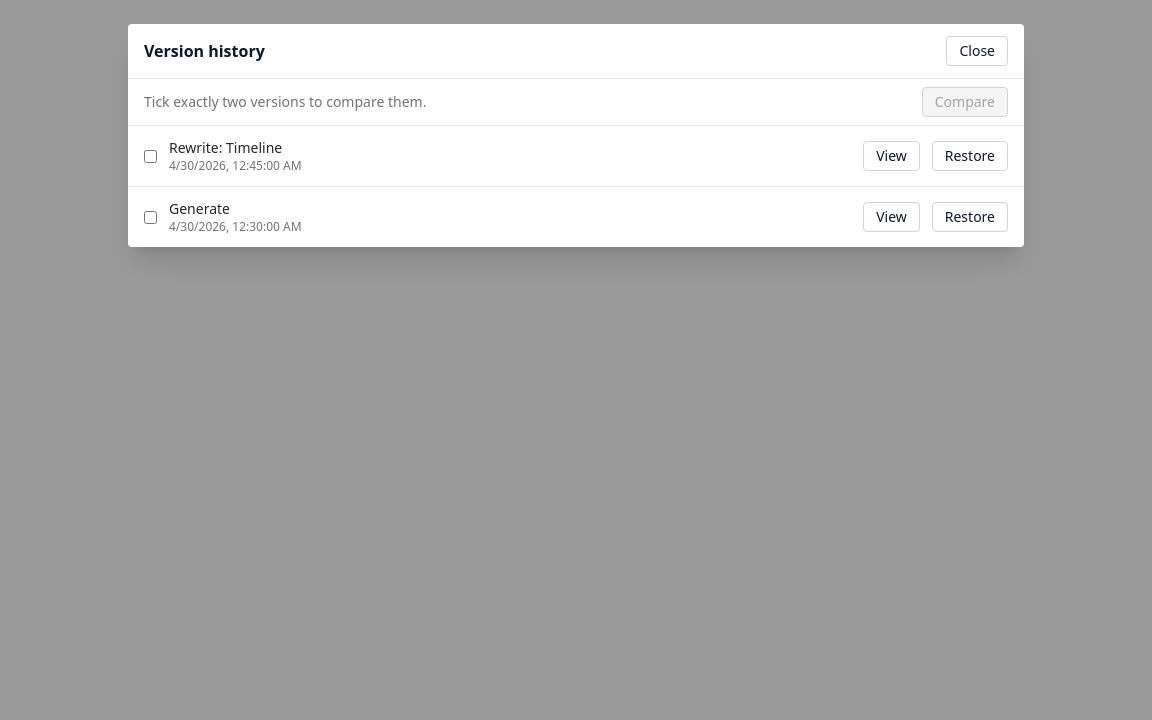
Test case: VersionHistoryPanel — diff view › Compare renders per-section diff status (added / removed / changed / unchanged)
Click the checkbox named "select for compare": click(150, 156) [144,150,157,162]
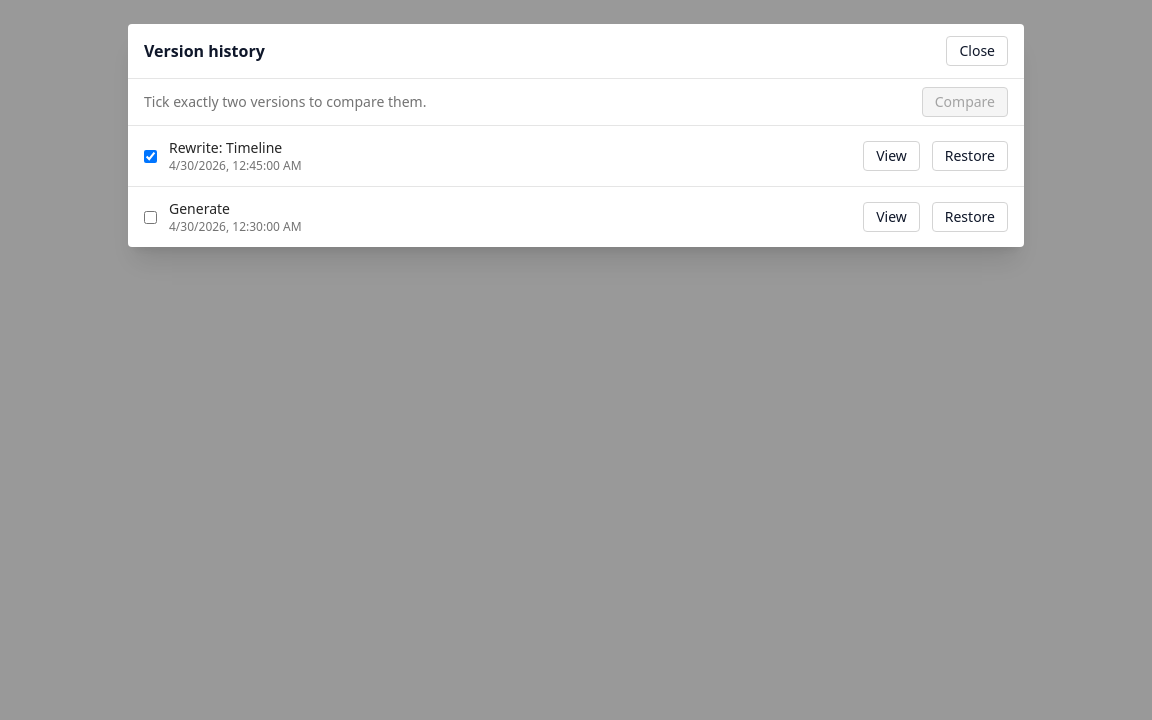
Click the checkbox named "select for compare": click(150, 217) [144,210,157,224]
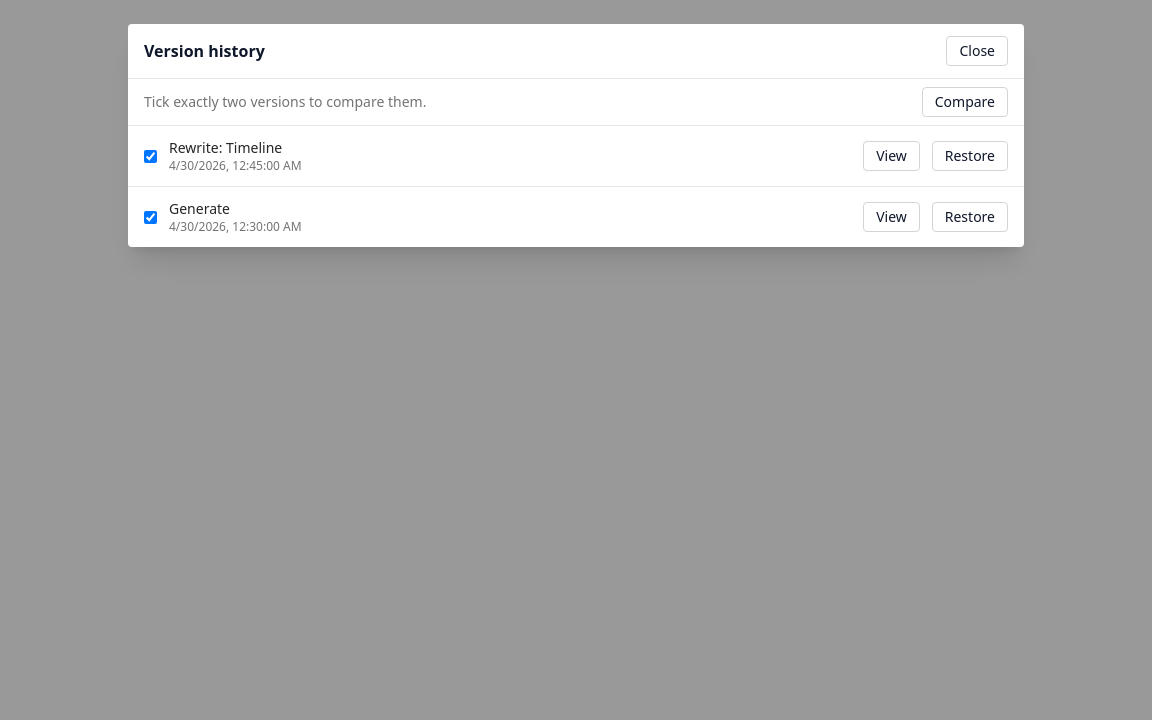
Click the button "Compare": click(965, 102) [922,87,1008,117]
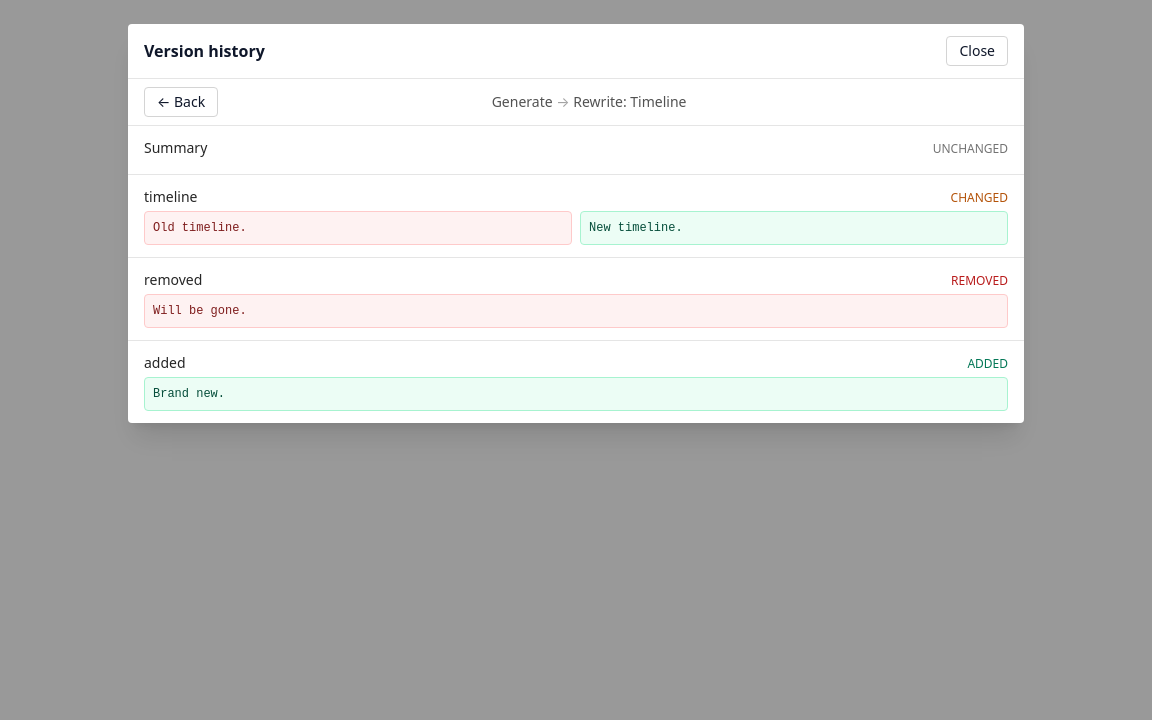
Check: the list item with test id "diff-row" shows "unchanged", box [933,140,1008,157]
Check: the list item with test id "diff-row" shows "changed", box [951,189,1008,206]
Check: the list item with test id "diff-row" shows "added", box [144,353,186,372]
